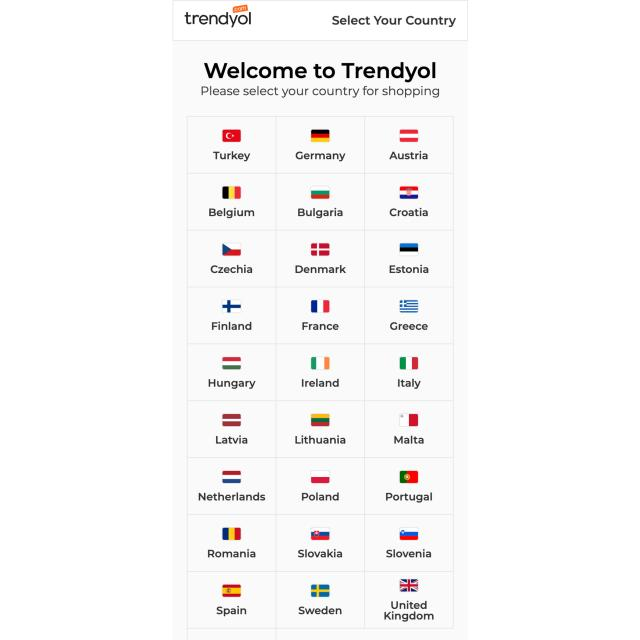Input field: (199, 83, 442, 101)
bag: (172, 0, 468, 42)
carousel: (220, 298, 243, 315), (220, 526, 243, 542), (310, 355, 331, 372), (398, 354, 419, 371), (398, 128, 419, 144), (399, 298, 420, 314), (221, 412, 242, 428), (310, 469, 331, 485), (221, 582, 242, 598), (221, 356, 243, 371), (310, 128, 330, 144), (310, 298, 330, 314), (310, 412, 330, 428), (221, 128, 242, 143), (398, 242, 419, 257), (310, 526, 331, 541), (398, 527, 420, 541), (400, 577, 419, 593), (399, 469, 419, 484), (310, 584, 331, 598), (398, 186, 420, 199), (222, 186, 242, 200), (221, 242, 241, 256), (310, 242, 330, 256), (222, 470, 242, 484), (311, 186, 330, 200), (400, 413, 419, 427)
data feed: (382, 597, 436, 623), (197, 491, 267, 502), (293, 149, 346, 163), (206, 377, 258, 390), (205, 547, 257, 560), (297, 206, 345, 220), (294, 434, 348, 446), (208, 262, 254, 276), (384, 491, 434, 503), (293, 264, 347, 275), (208, 207, 256, 219), (296, 548, 344, 560), (384, 548, 432, 560), (211, 149, 252, 163), (389, 206, 429, 219), (210, 320, 253, 332), (297, 605, 342, 616), (388, 150, 429, 162), (301, 320, 341, 332), (299, 492, 342, 503), (215, 604, 248, 618), (389, 264, 430, 275), (389, 321, 429, 332), (300, 378, 340, 388), (393, 434, 426, 446), (212, 435, 250, 445), (396, 377, 422, 390)
date picker: (182, 3, 255, 33)
image: (203, 56, 438, 85)
